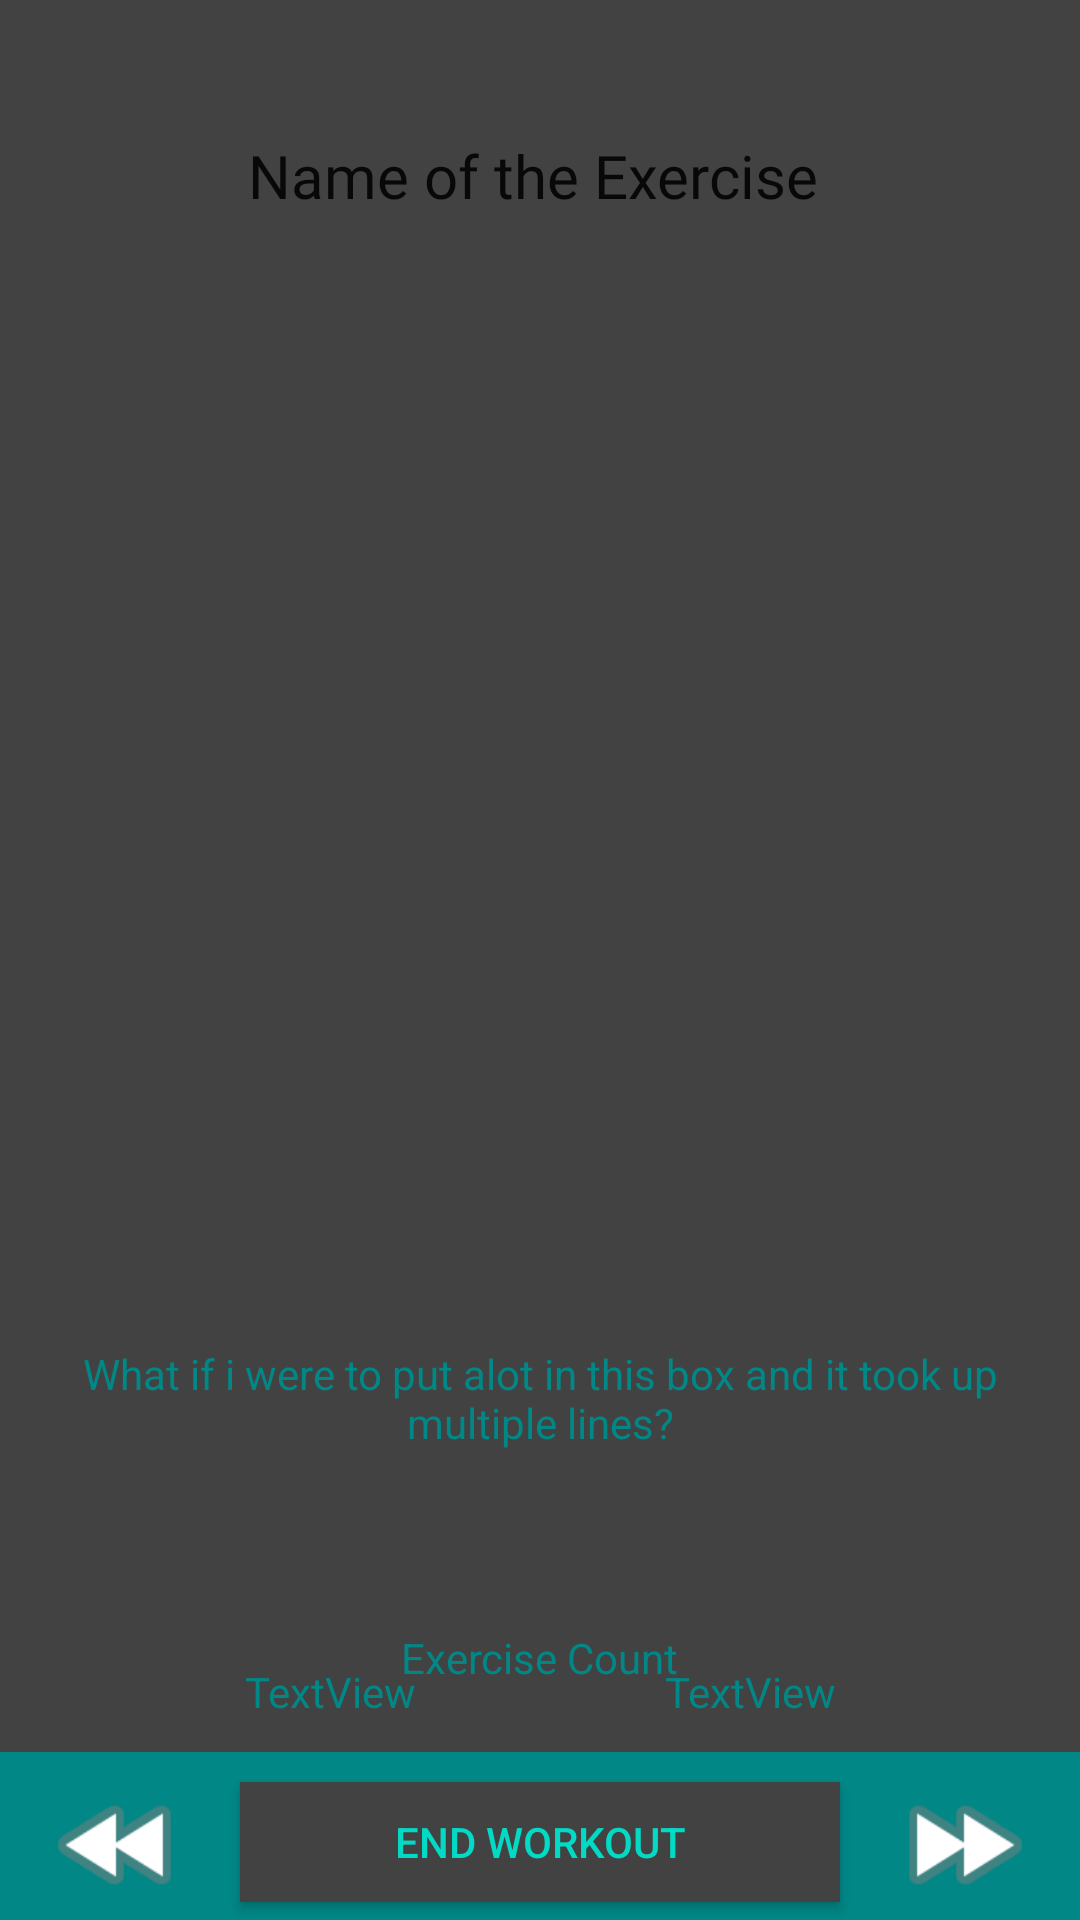

Where icons sit on this 1080 x 1920 app screen, as (x1, y1, x2, y2):
rew: (58, 1806, 171, 1884)
